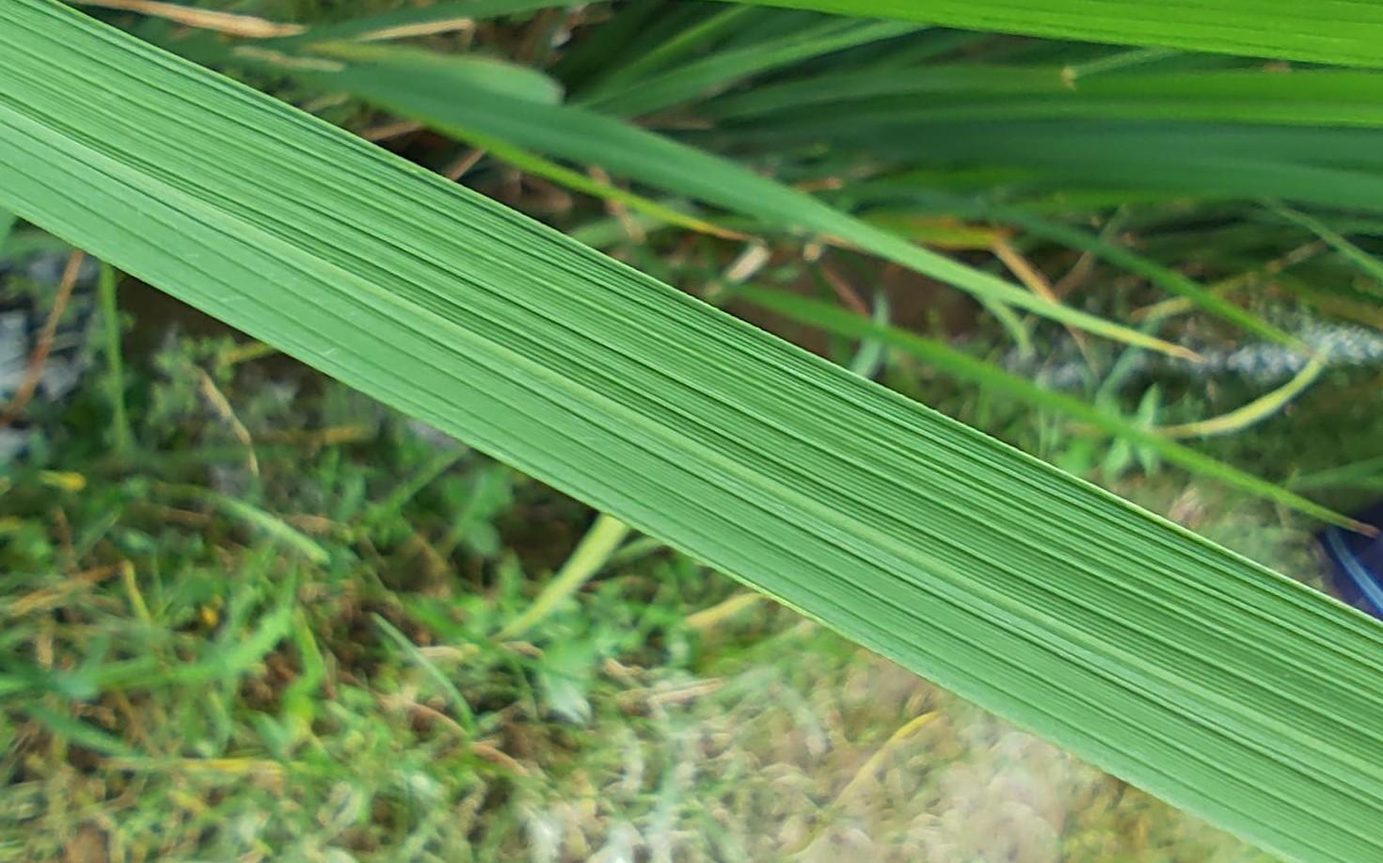Healthy: (1, 0, 1383, 862)
